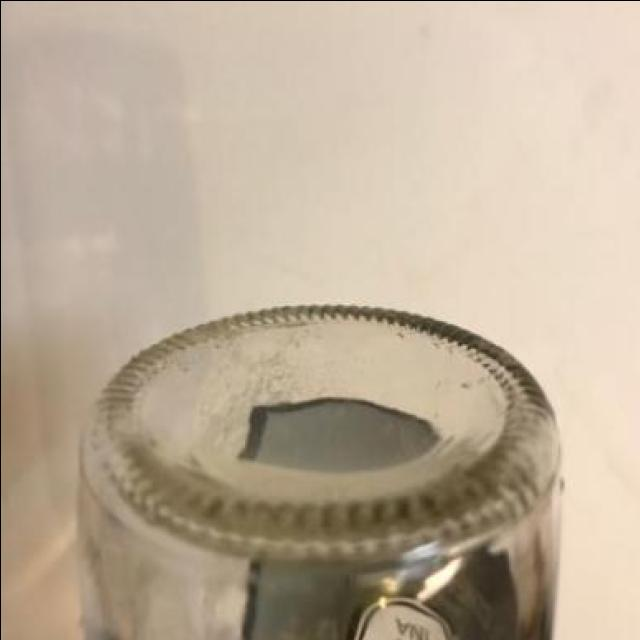kaca: (80, 303, 563, 640)
